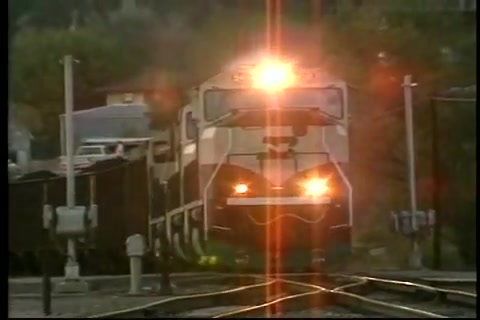train: (7, 53, 354, 272)
